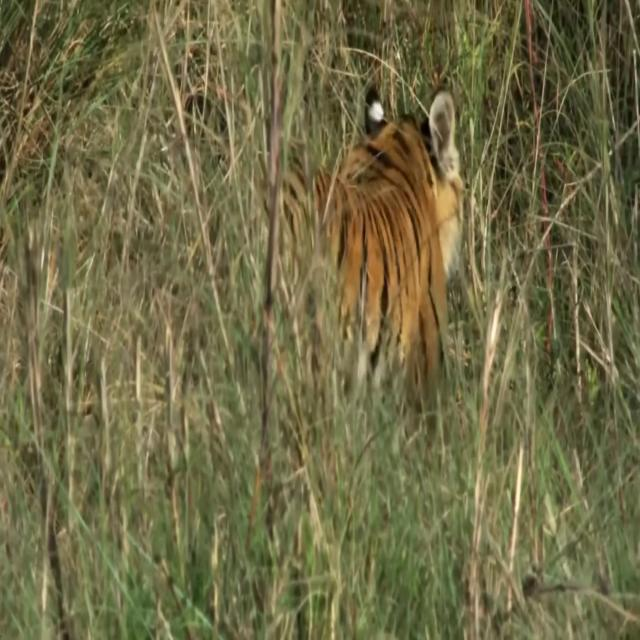tiger: (266, 73, 468, 440)
